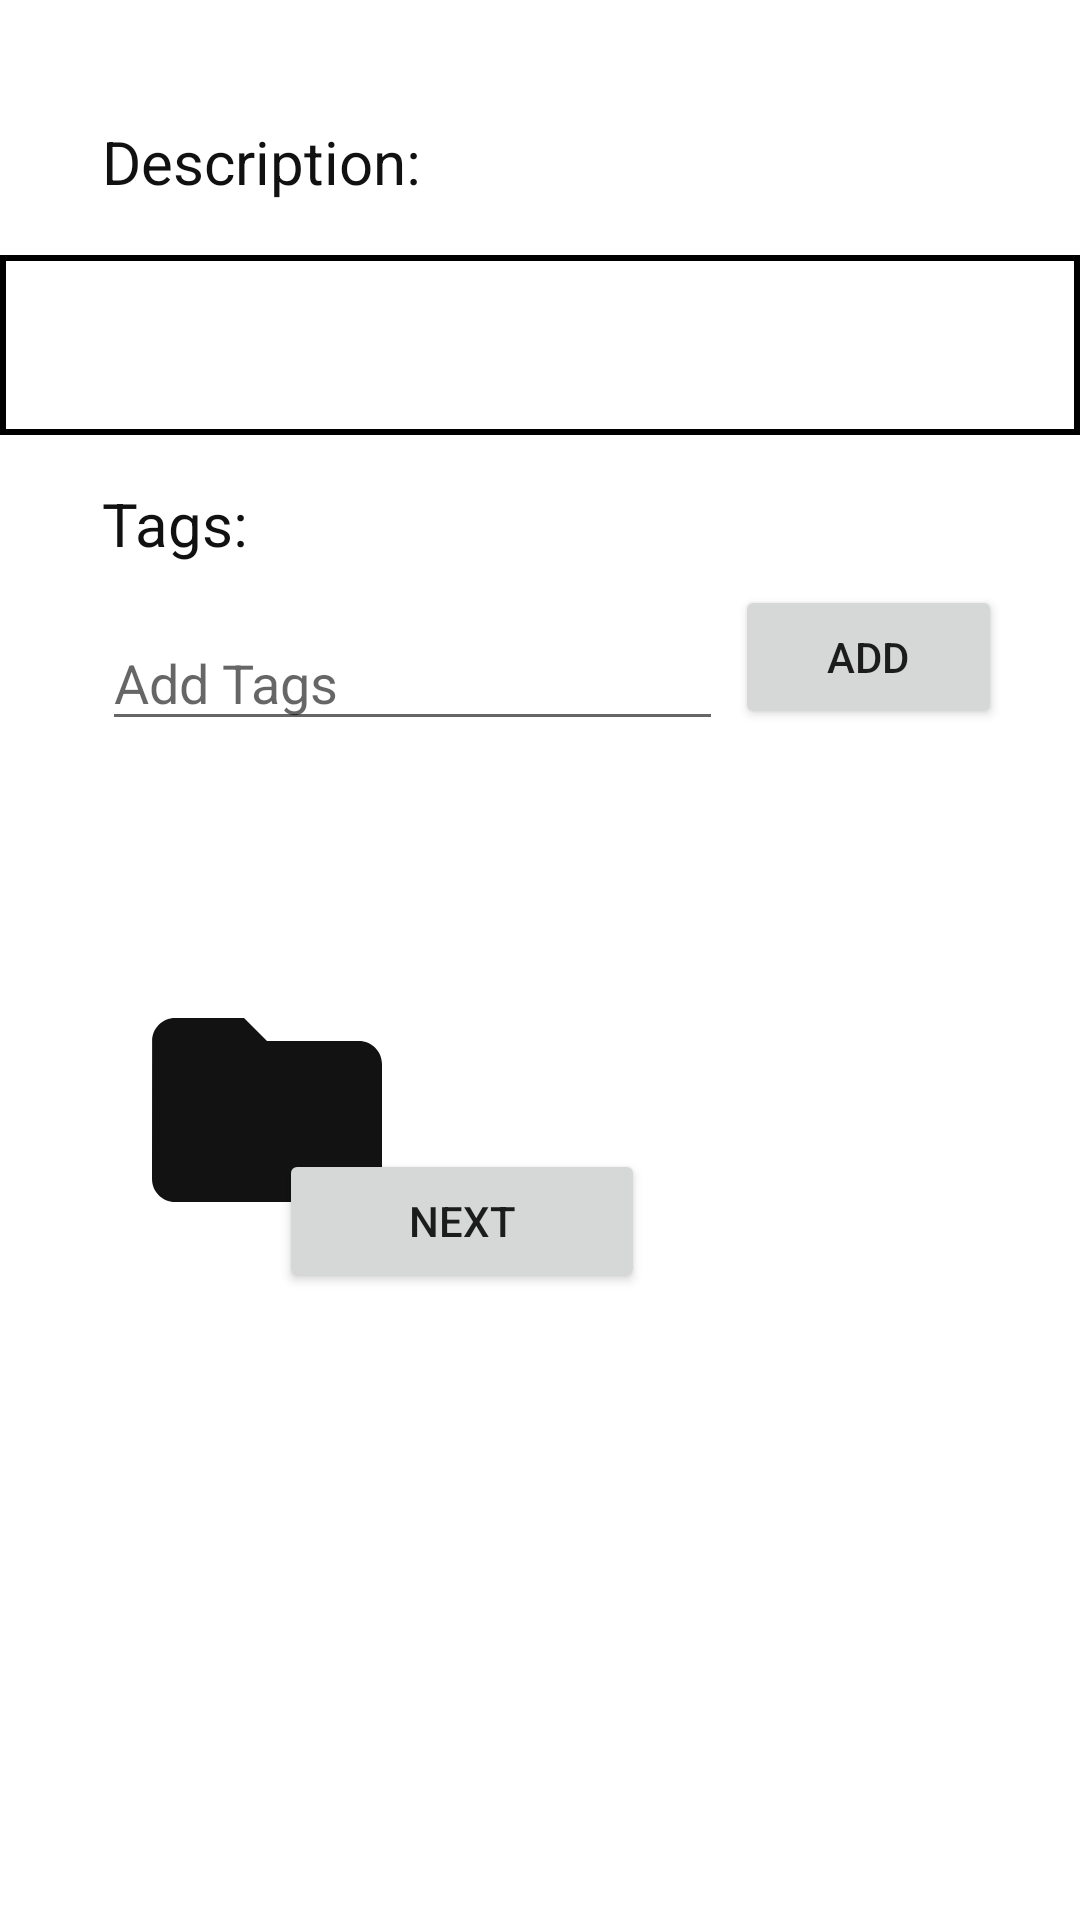

Screen size 1080px×1920px. Icon name, then its center in pixels as (x=x, y=y):
folder: (x=290, y=1133)
